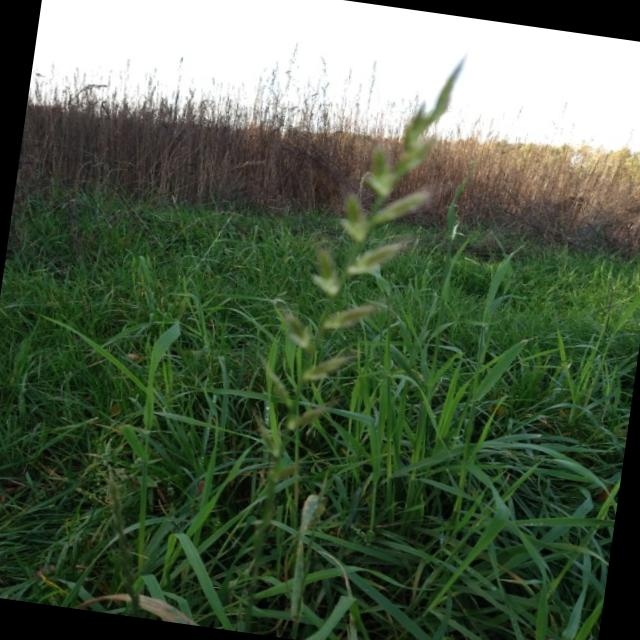Lolium: (244, 31, 473, 486)
